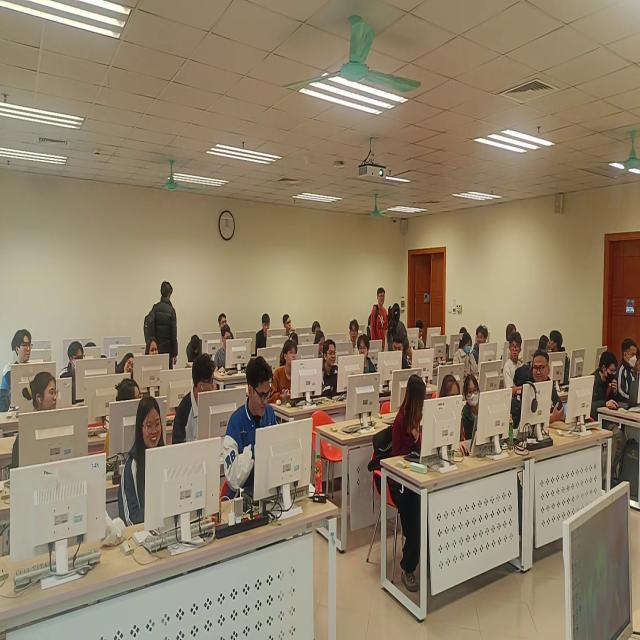raise_head: (1, 329, 33, 414), (271, 341, 298, 406), (505, 332, 524, 388), (323, 341, 339, 396), (257, 314, 272, 357), (118, 354, 135, 377), (284, 313, 297, 337), (350, 320, 360, 347), (219, 314, 231, 336), (146, 338, 160, 356)
sleep: (188, 336, 205, 362)
stand: (145, 279, 179, 369), (387, 303, 414, 371), (369, 287, 390, 352), (550, 331, 572, 385), (475, 326, 490, 360)
using_computer: (225, 357, 277, 507), (119, 397, 166, 532), (592, 350, 617, 423), (59, 340, 86, 405), (618, 338, 638, 407), (452, 332, 480, 377), (215, 325, 235, 376), (440, 375, 463, 399), (415, 320, 428, 351), (631, 346, 640, 382), (316, 333, 327, 357), (538, 336, 551, 353), (313, 322, 322, 336), (460, 329, 469, 336)
